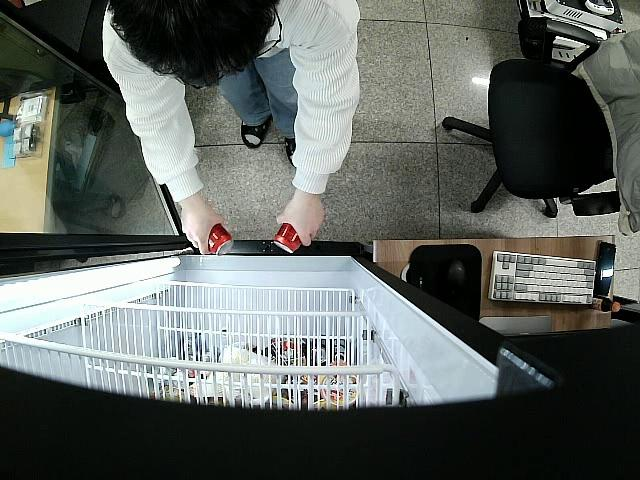00_hand: (277, 196, 325, 246), (180, 207, 226, 255)
11_cocaColaZero: (207, 221, 233, 255), (274, 222, 302, 253)
